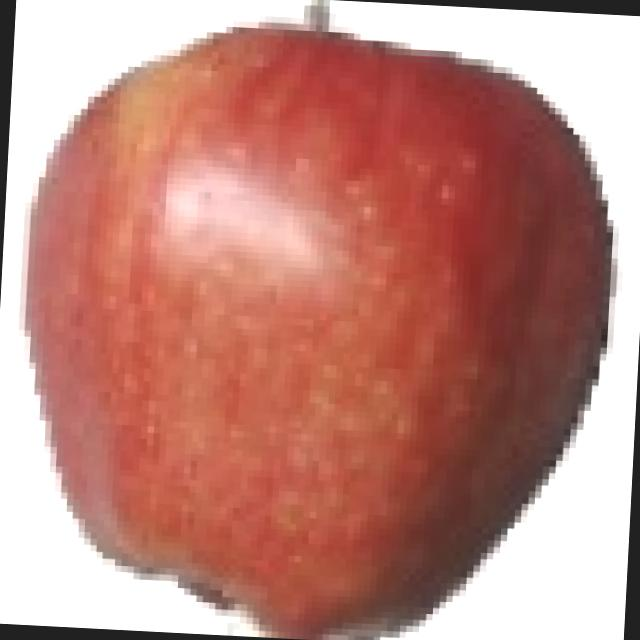apple: (4, 3, 631, 640)
